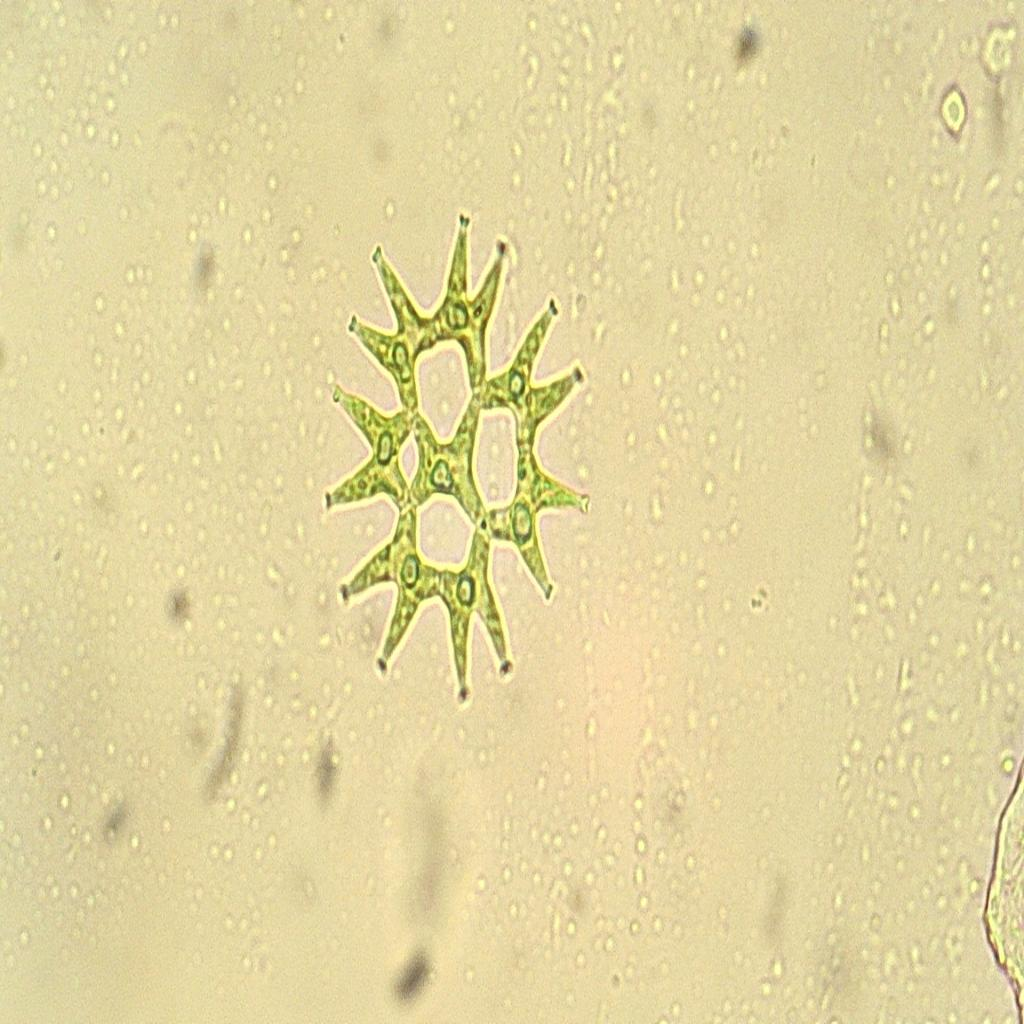Pediastrum_CTH: (315, 201, 595, 720)
